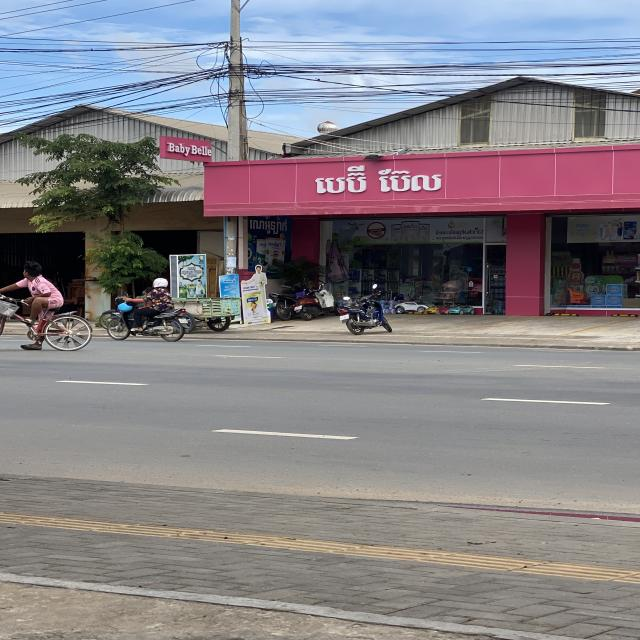1: (308, 159, 445, 200)
631: (456, 236, 460, 240)
Yolov11kh: (248, 217, 291, 235), (434, 228, 464, 236), (458, 235, 484, 240), (434, 235, 454, 241)
